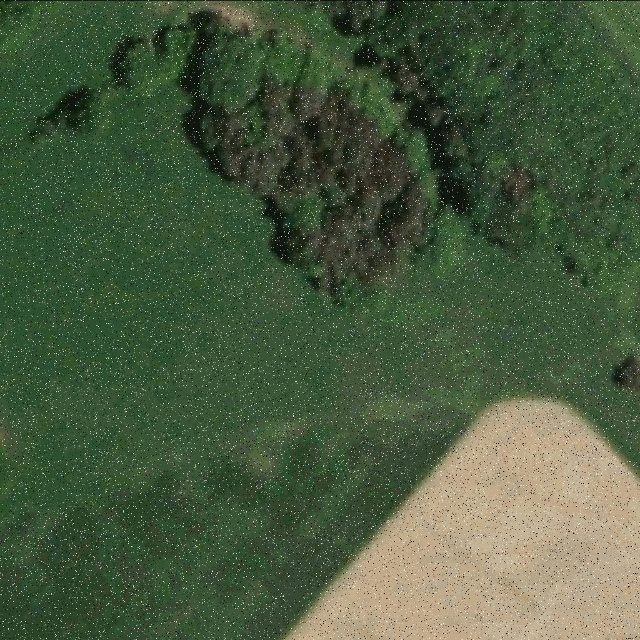vegetation: (29, 0, 640, 389)
